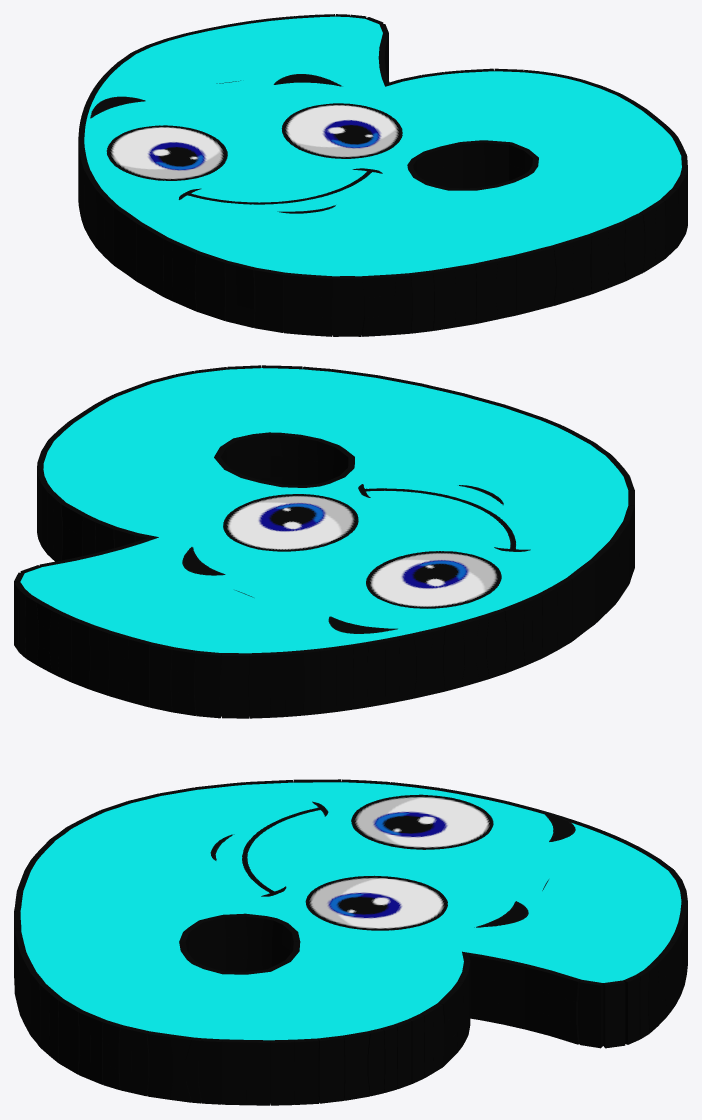
The model's file is number 6 .fbx.
The picture shows the model from 3 angles, top to bottom: view 1: azimuth 30°, elevation 25°; view 2: azimuth 150°, elevation 25°; view 3: azimuth 270°, elevation 25°; orthographic projection. The views are drawn at different scales.
Parts seen in each view (by area): view 1: Plane.008; view 2: Plane.008; view 3: Plane.008.
Boxes of the visible parts, <box> form: Plane.008: <box>78,14,687,336</box>; Plane.008: <box>14,365,634,718</box>; Plane.008: <box>14,779,687,1105</box>.
Bounding box in the file's own units: 63.64 × 6.92 × 62.35.
Materials: 3 (1 with a texture image).
